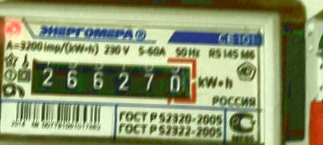0: (167, 72, 181, 92)
2: (40, 65, 53, 86), (117, 70, 130, 90)
6: (65, 67, 77, 88), (91, 69, 104, 88)
7: (143, 71, 153, 90)
screen: (18, 47, 203, 109)
